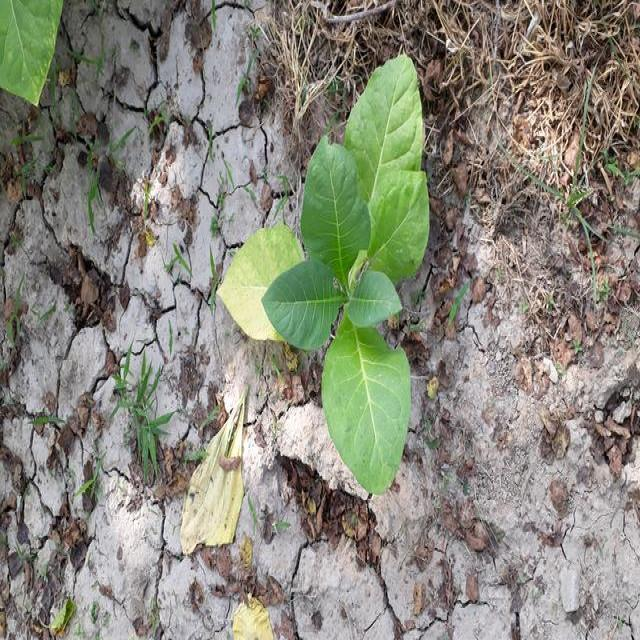crop: (220, 63, 432, 482), (2, 0, 66, 104)
